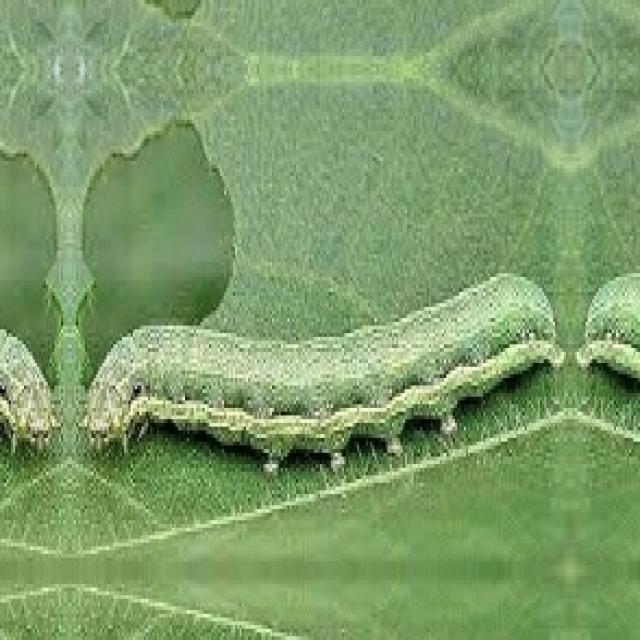armyworm: (78, 266, 566, 475), (0, 322, 61, 456), (572, 266, 638, 389)
